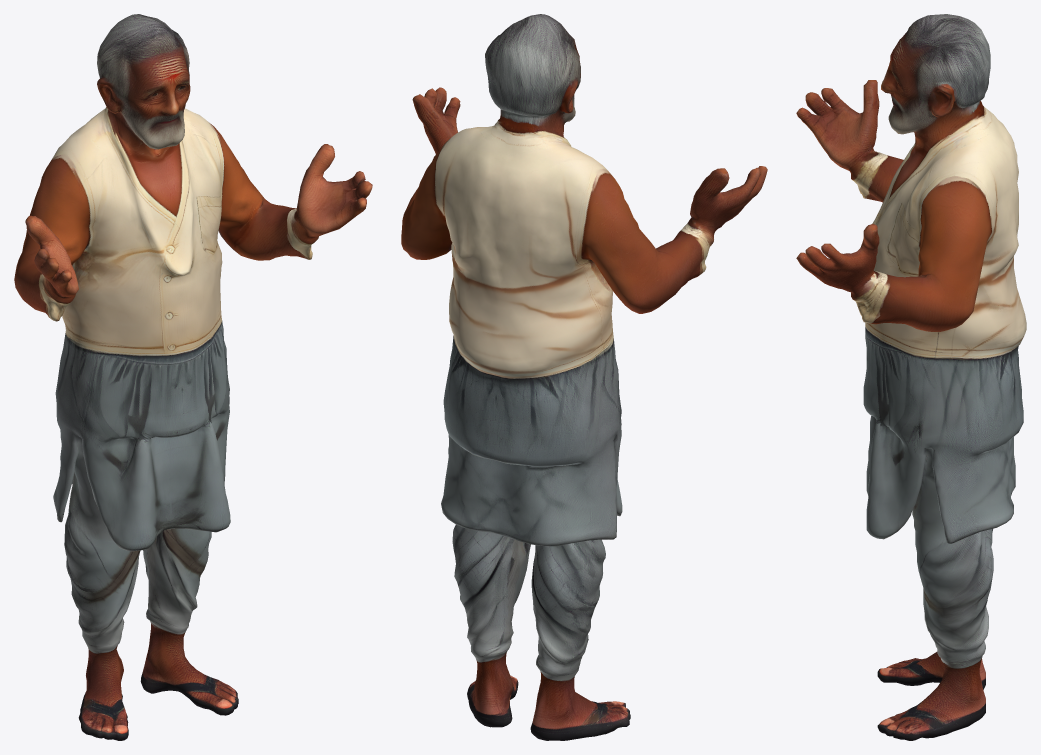
File: Meshy_AI_Stylized_semi_realist_0424223213_texture.glb
3 renders of one model, left to right at view 1: azimuth 30°, elevation 25°; view 2: azimuth 150°, elevation 25°; view 3: azimuth 270°, elevation 25°, orthographic. The views are drawn at different scales.
Size of the model in its own units: 0.9432 by 1.91 by 0.5753.
Materials: 1 (1 with a texture image).
